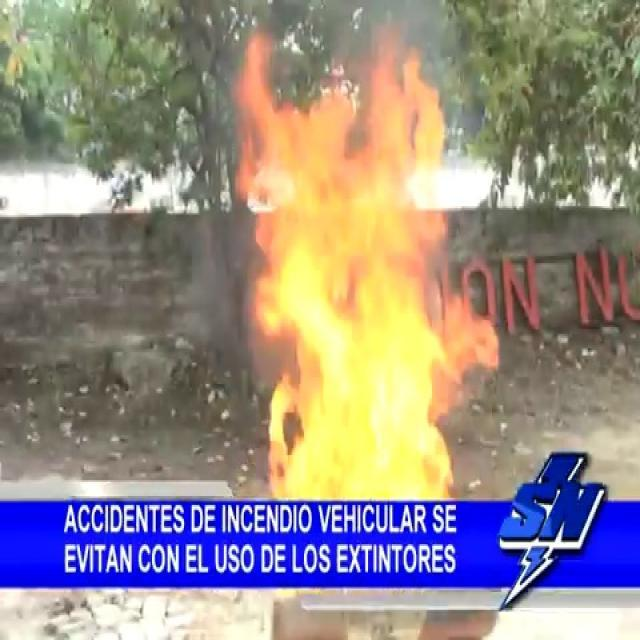Fire: (222, 35, 494, 498)
